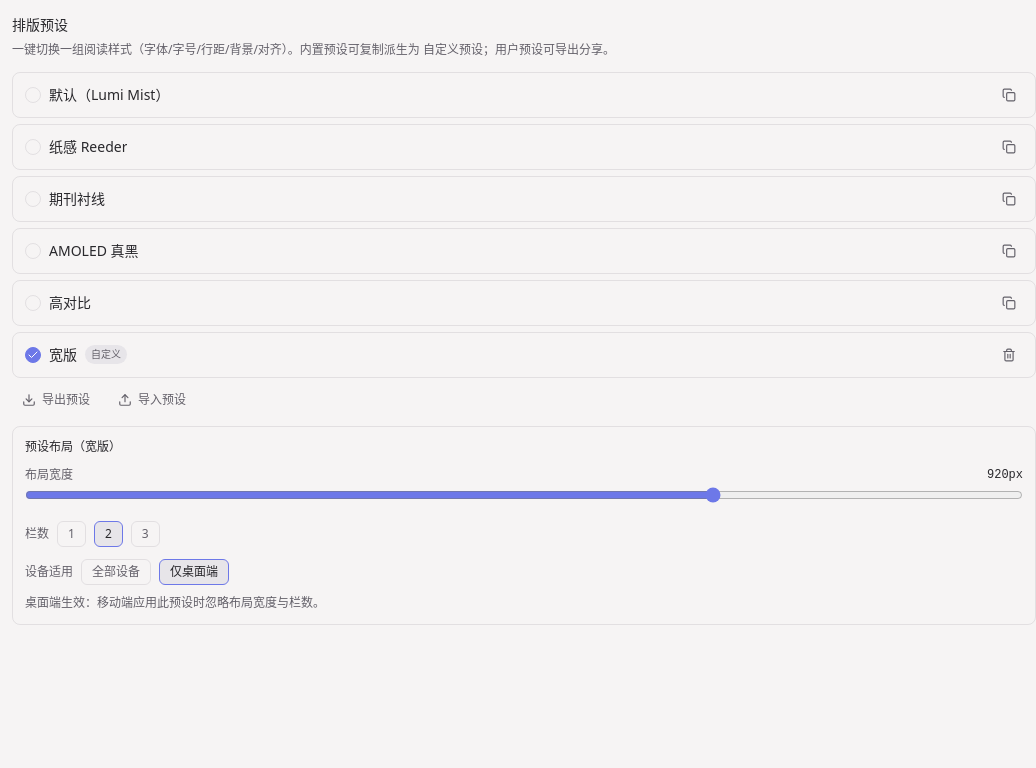
F036 预设编辑器 UI（W2 收尾） › F036: 用户预设暴露 宽度/栏数/设备适用，desktop 标注「桌面端生效」
Expected: the text "布局宽度" is shown, [25, 466, 73, 482]
Expected: the text "栏数" is shown, [25, 526, 49, 542]
Note: 切回「全部设备」标注消失
Click the button "全部设备" at (116,572), box [81, 558, 151, 584]
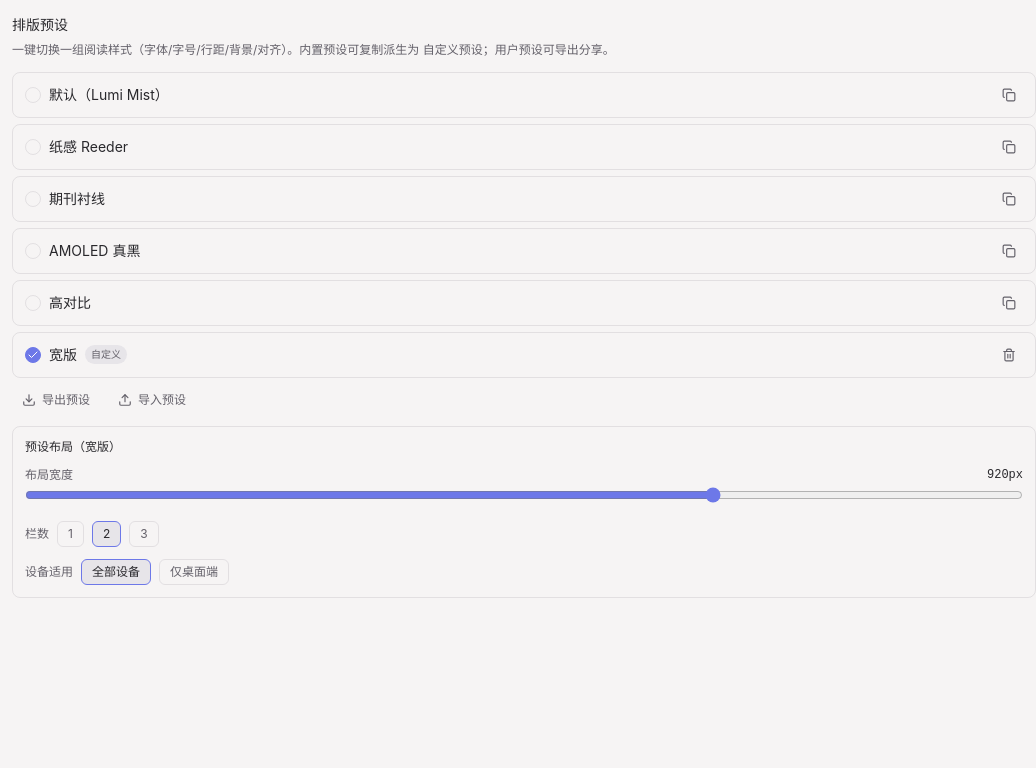
Expected: the text "桌面端生效" is gone
